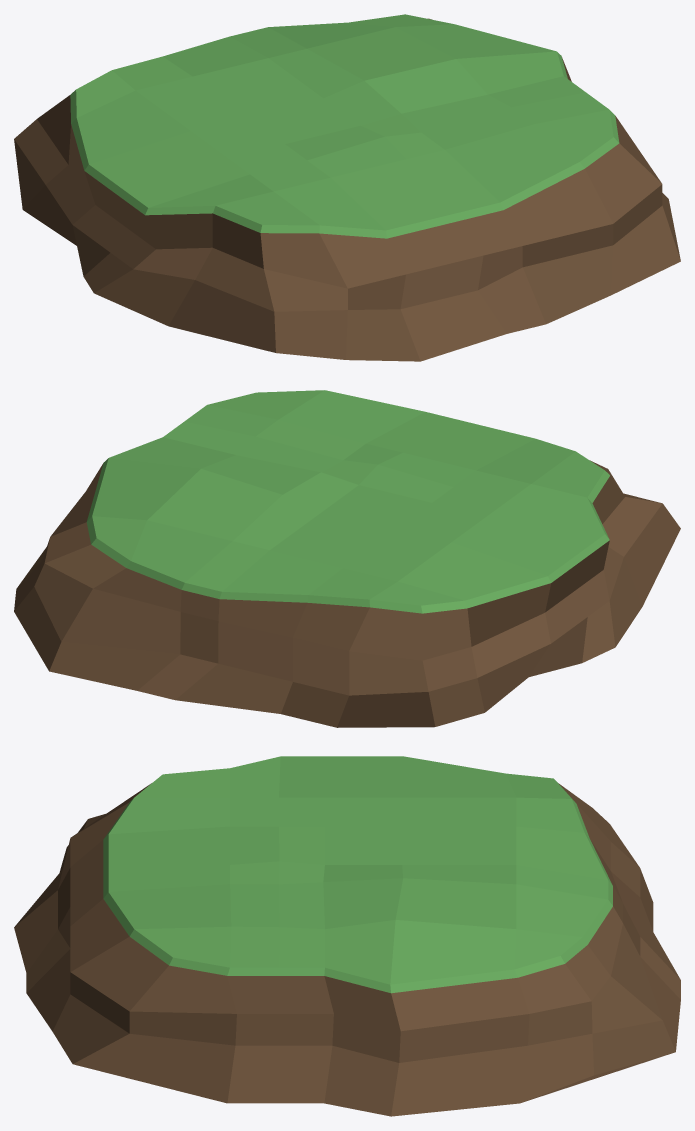
File: island.fbx
The picture shows the model from 3 angles, top to bottom: view 1: azimuth 30°, elevation 25°; view 2: azimuth 150°, elevation 25°; view 3: azimuth 270°, elevation 25°; orthographic projection. The views are drawn at different scales.
Visible parts, largest first — view 1: Cube; view 2: Cube; view 3: Cube.
Boxes of the visible parts, x1,y1,x2,y2 form: Cube: (14,14,680,361); Cube: (14,390,680,727); Cube: (14,756,680,1116).
Size of the model in its own units: 6381 by 1288 by 6431.
